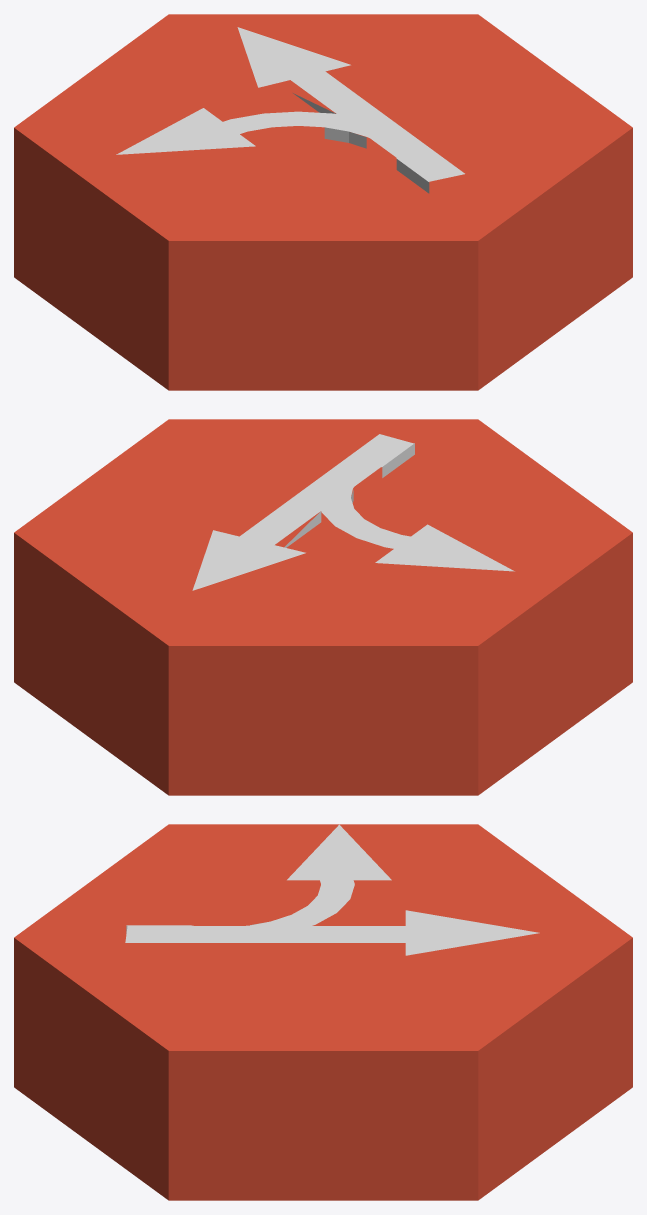
3 views of the same model, one above another, from view 1: azimuth 30°, elevation 25°; view 2: azimuth 150°, elevation 25°; view 3: azimuth 270°, elevation 25° (orthographic).
Parts seen in each view (by area): view 1: Circle.004, MP_Brick_Terrain.002; view 2: Circle.004, MP_Brick_Terrain.002; view 3: Circle.004, MP_Brick_Terrain.002.
Boxes of the visible parts, bbox=[...] form: Circle.004: bbox=[14, 14, 632, 390]; MP_Brick_Terrain.002: bbox=[116, 27, 464, 193]; Circle.004: bbox=[14, 419, 632, 795]; MP_Brick_Terrain.002: bbox=[192, 434, 514, 590]; Circle.004: bbox=[14, 824, 632, 1200]; MP_Brick_Terrain.002: bbox=[125, 824, 539, 955].
Size of the model in its own units: 1956 by 666 by 2258.
